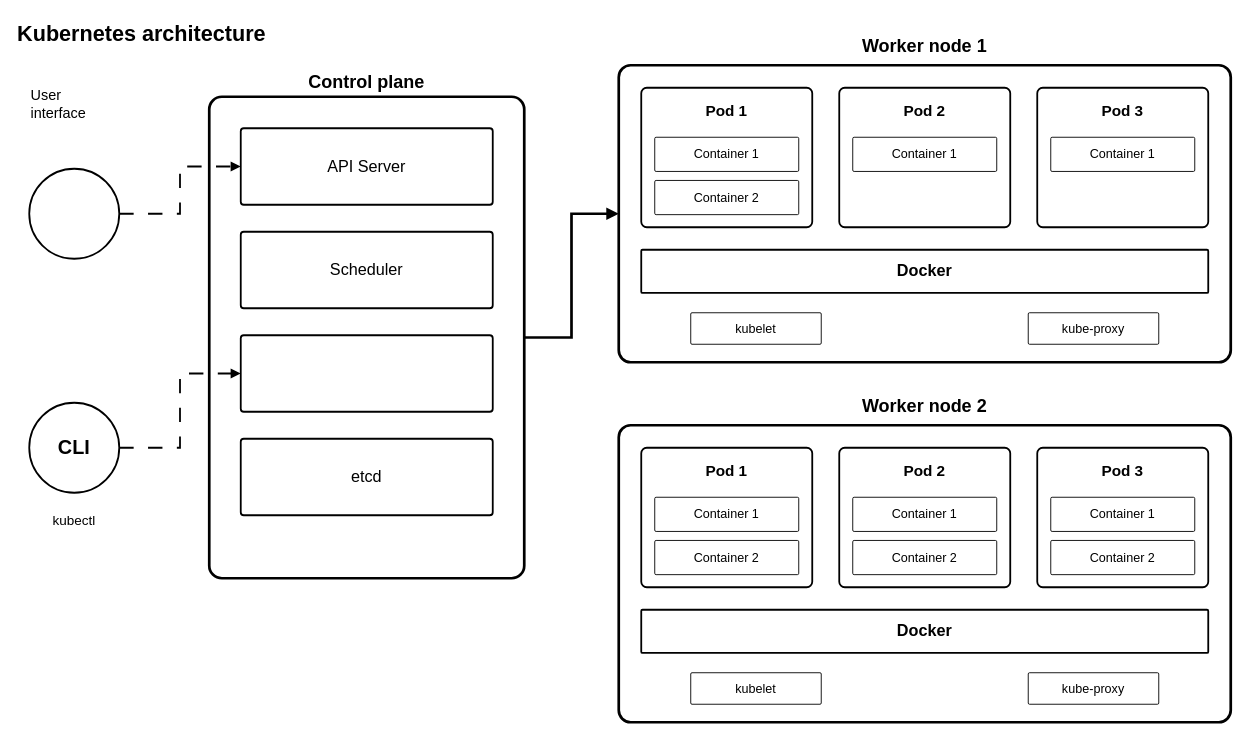
Some shapes in this 1247 by 739 pixel diagram are drawn without their labels. The shapes that lost their labels are listed below. From the top down, each one's box as (x1, y1, x2, y2) in pixels, then its label:
(28, 167, 120, 259): UI
(239, 334, 493, 412): Controller-Manager
